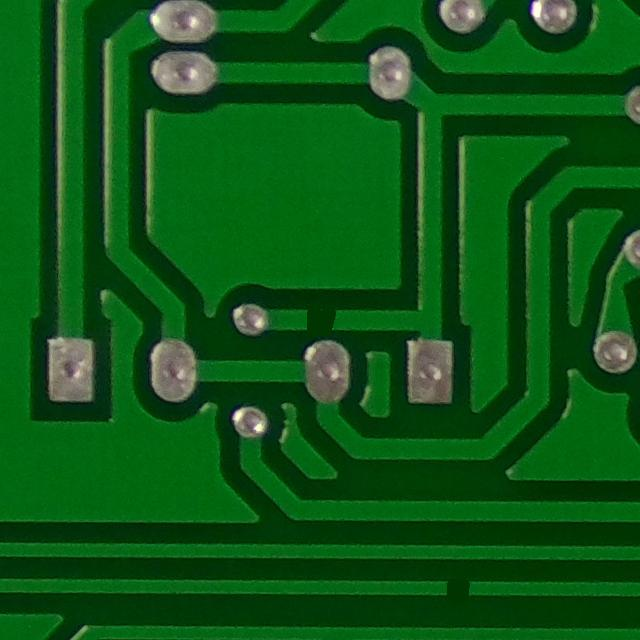open_circuit: (291, 298, 349, 342)
